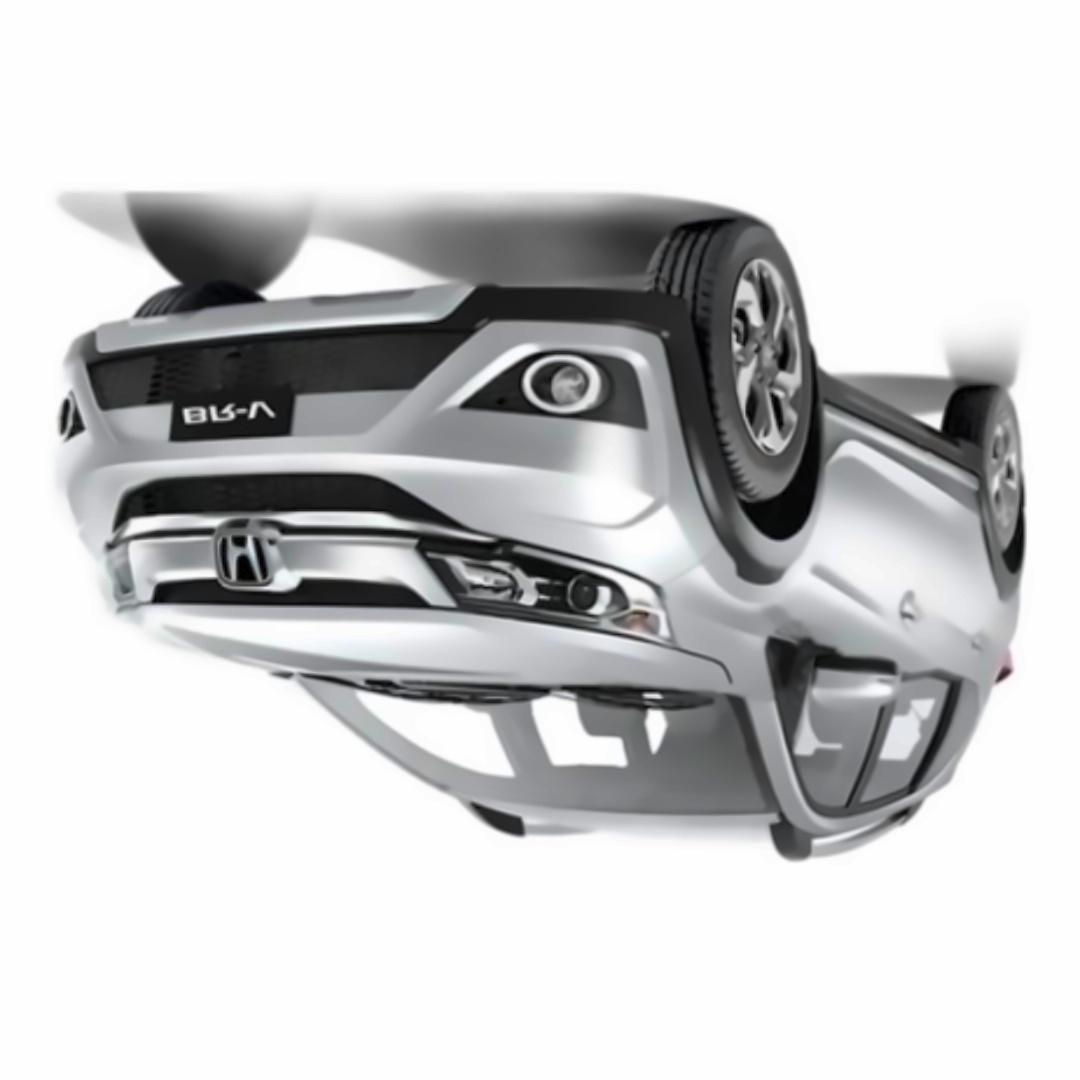Car hood: (120, 605, 737, 701)
Driver-s door - -F-R-: (752, 335, 930, 867)
Fender - -F-R-: (635, 352, 860, 713)
Front bumper: (55, 295, 716, 603)
Headlight - -L-: (89, 529, 150, 627)
Headlight - -R-: (412, 534, 678, 654)
Passenger-s door - -R-R-: (811, 427, 1015, 849)
Side mirror - -R-: (780, 642, 904, 717)
